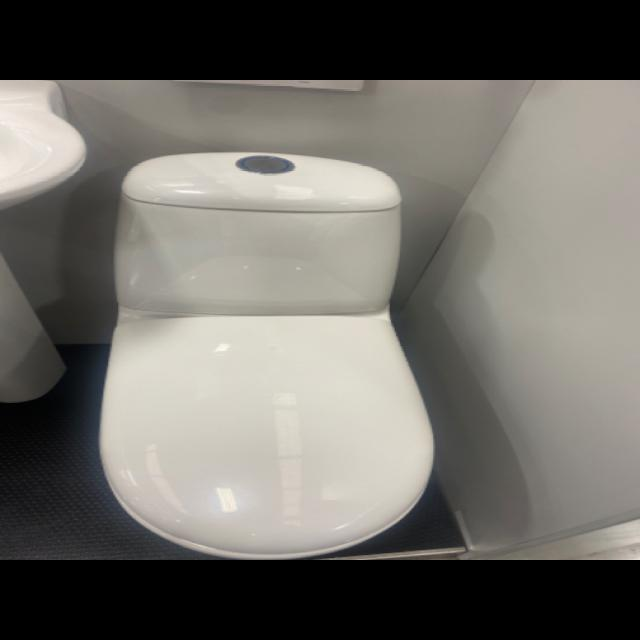toilet: (98, 150, 434, 559)
